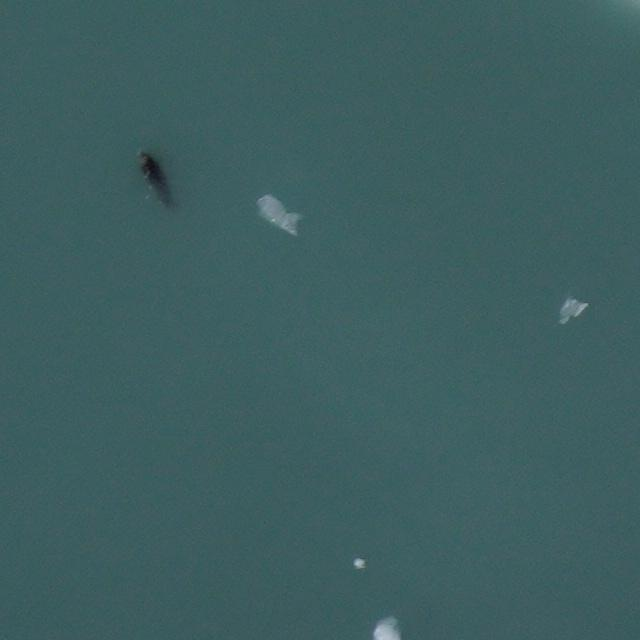seal: (134, 147, 178, 211)
